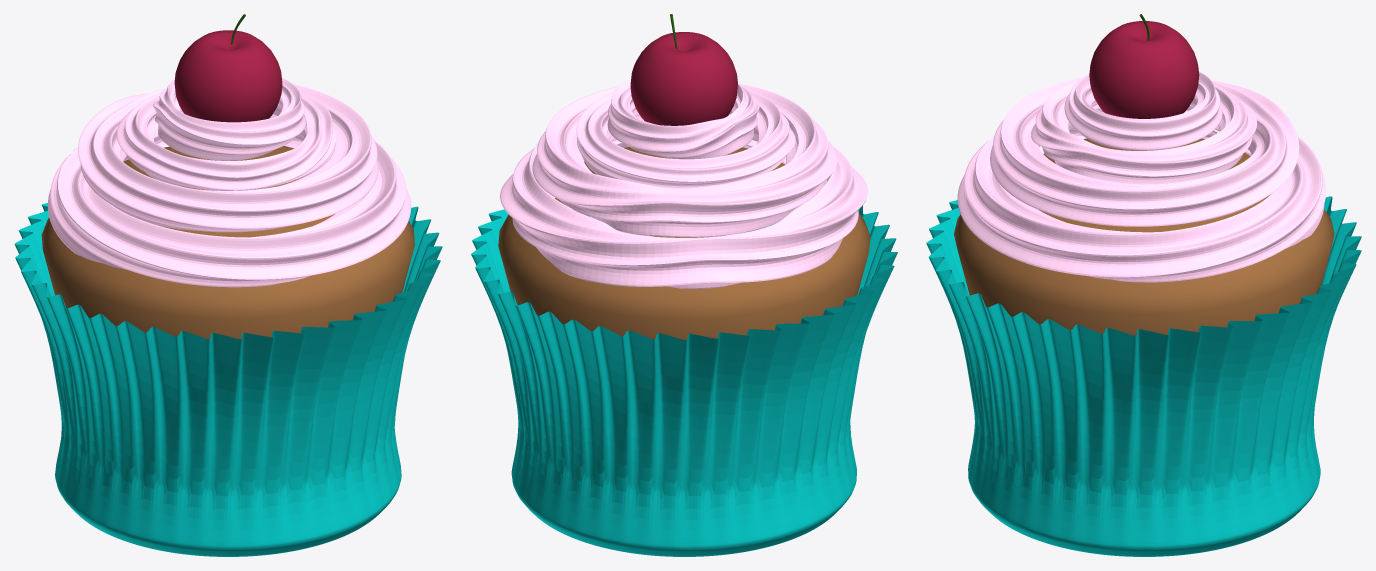
Rendered from 纸杯蛋糕.fbx.
3 renders of one model, left to right at view 1: azimuth 30°, elevation 25°; view 2: azimuth 150°, elevation 25°; view 3: azimuth 270°, elevation 25°, orthographic. The views are drawn at different scales.
Visible parts, largest first — view 1: 柱体, 圆环, 球体, 圆环.001, 圆环.002, 球体.001, 圆环.003; view 2: 柱体, 圆环, 球体, 圆环.001, 圆环.002, 球体.001, 圆环.003; view 3: 柱体, 圆环, 球体, 圆环.001, 圆环.002, 球体.001, 圆环.003.
Part boxes in pixels (<box>): 柱体: <box>14,203,442,556</box>; 圆环: <box>47,136,411,287</box>; 球体: <box>41,146,414,339</box>; 圆环.001: <box>77,84,378,232</box>; 圆环.002: <box>116,92,336,190</box>; 球体.001: <box>174,30,282,122</box>; 圆环.003: <box>153,78,306,160</box>; 柱体: <box>471,205,897,556</box>; 圆环: <box>500,140,867,288</box>; 球体: <box>498,147,870,340</box>; 圆环.001: <box>532,83,837,237</box>; 圆环.002: <box>576,89,795,188</box>; 球体.001: <box>630,32,737,125</box>; 圆环.003: <box>607,79,759,159</box>; 柱体: <box>926,196,1361,556</box>; 圆环: <box>957,129,1326,282</box>; 球体: <box>954,138,1334,335</box>; 圆环.001: <box>990,77,1299,226</box>; 圆环.002: <box>1031,81,1256,184</box>; 球体.001: <box>1089,21,1199,118</box>; 圆环.003: <box>1064,71,1222,150</box>.
Bounding box in the file's own units: 250 × 305 × 250.
